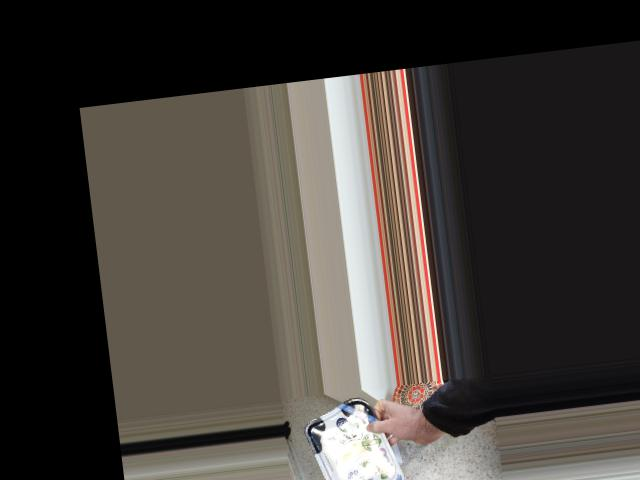cheese: (312, 400, 388, 480)
